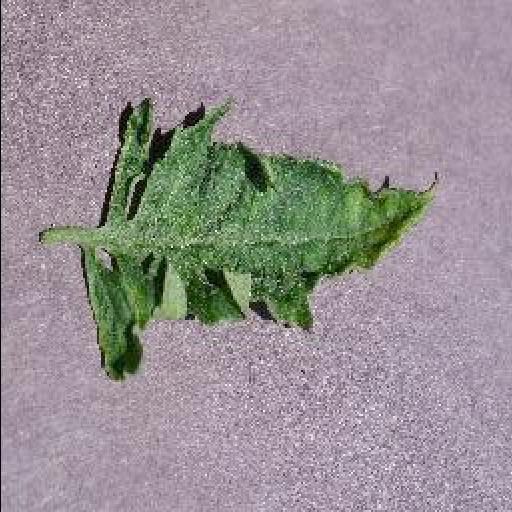Mosaic Virus: (76, 95, 442, 385)
